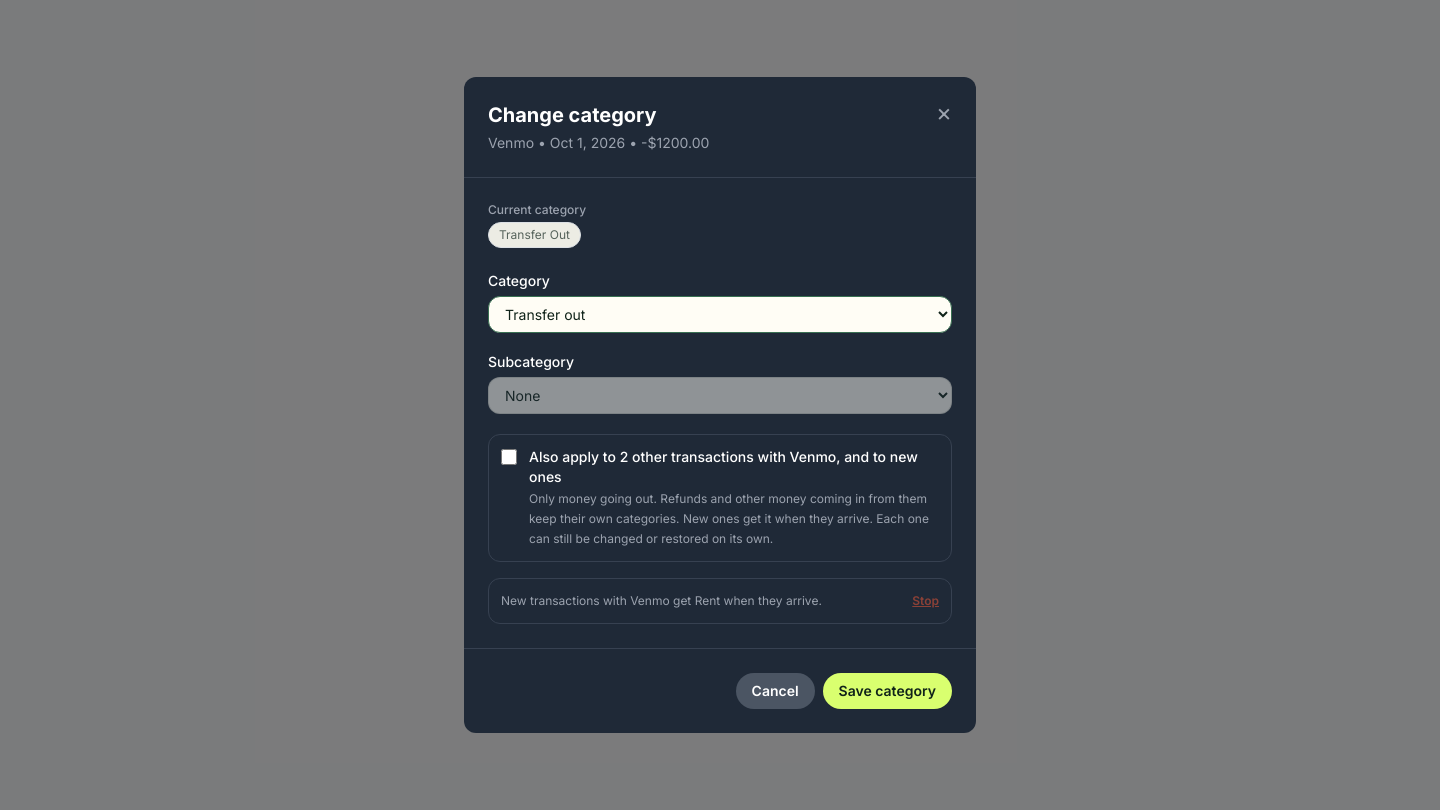
Test: TransactionCategoryModal › keeps a rule it could not stop, unless the server says it is already gone
Expected: the text "New transactions with Venmo get Rent when they arrive." is shown, 501,591 -> 822,611
Note: A server without the route says 404 too, and the rule is still there.
Click the button "Stop".
click(926, 601)  # box 912,591 -> 939,611
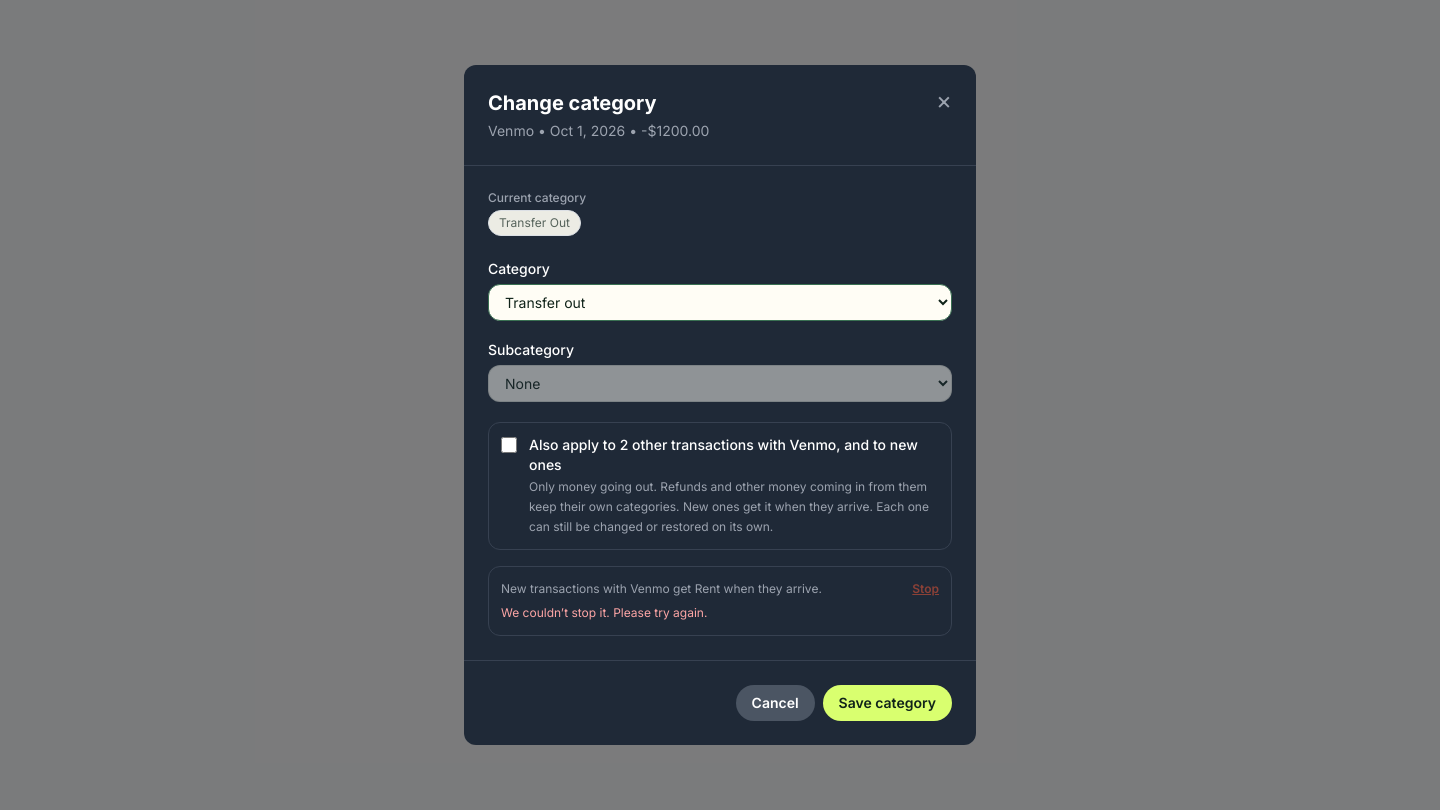
Expected: the text "New transactions with Venmo get Rent when they arrive." is shown, 501,579 -> 822,599
Now the message shows "We couldn’t stop it.", box 501,605 -> 707,620
Click the button "Stop".
click(926, 589)  # box 912,579 -> 939,599
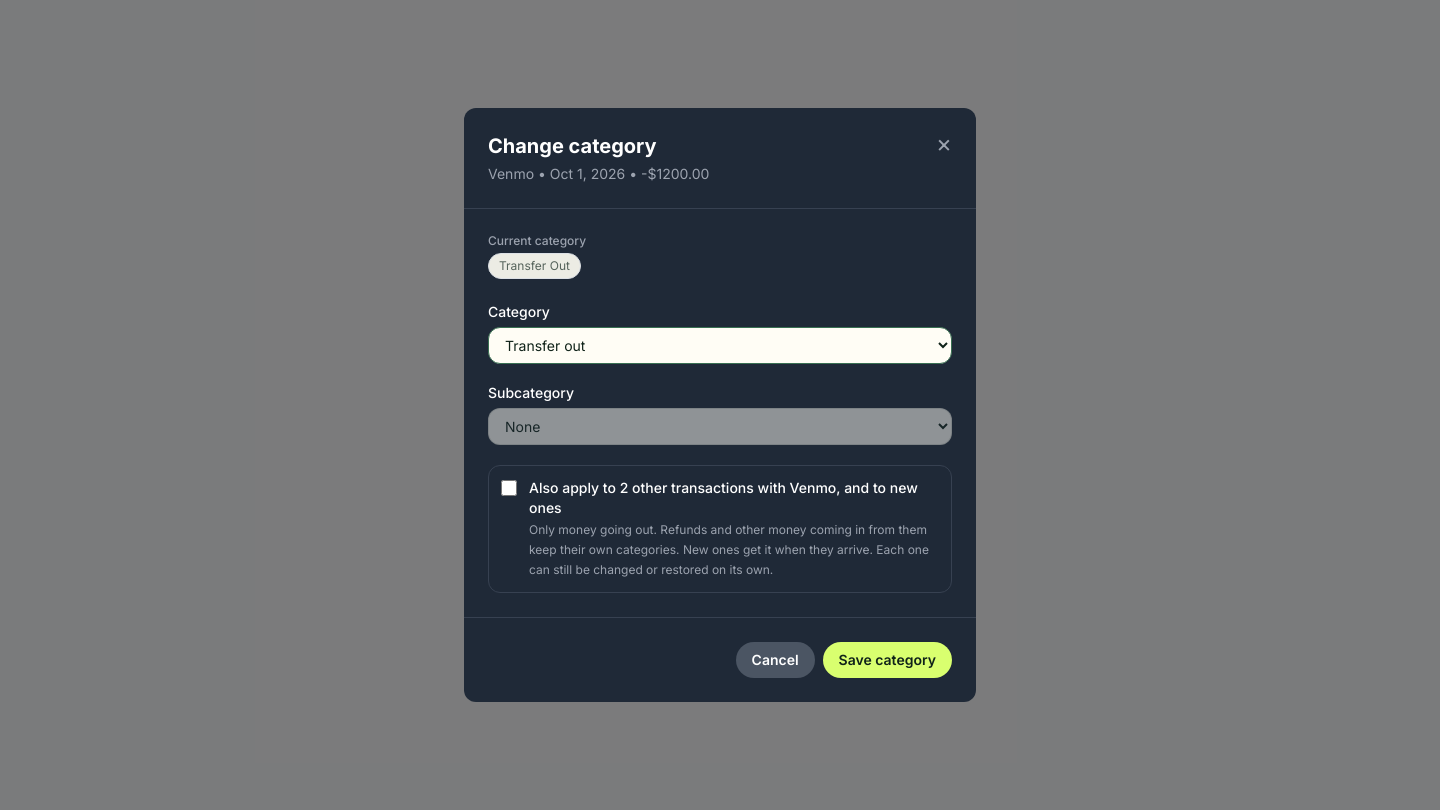
Now the text "New transactions with Venmo get" is gone
